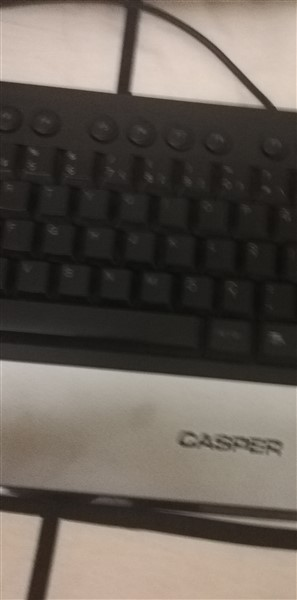klavye: (2, 73, 297, 506)
